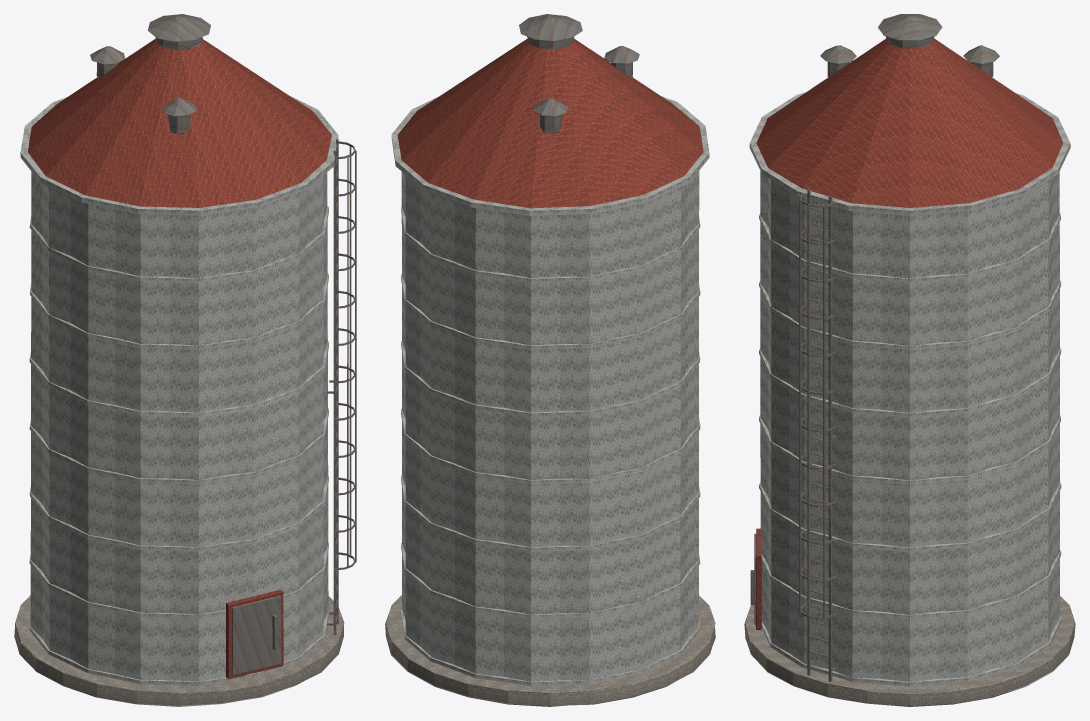
File: silo_large.glb
3 views of the same model, side by side, from view 1: azimuth 30°, elevation 25°; view 2: azimuth 150°, elevation 25°; view 3: azimuth 270°, elevation 25° (orthographic).
Parts seen in each view (by area): view 1: SiloLarge; view 2: SiloLarge; view 3: SiloLarge.
Boxes of the visible parts, x1=… form: SiloLarge: x1=14, y1=14, x2=356, y2=706; SiloLarge: x1=385, y1=14, x2=715, y2=706; SiloLarge: x1=744, y1=14, x2=1075, y2=706.
Bounding box in the file's own units: 4.94 × 10.22 × 4.94.
Materials: 4 (4 with a texture image).
